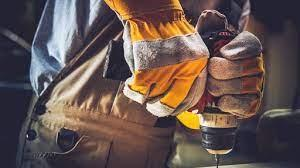gloves: (107, 1, 208, 118), (198, 14, 263, 116)
